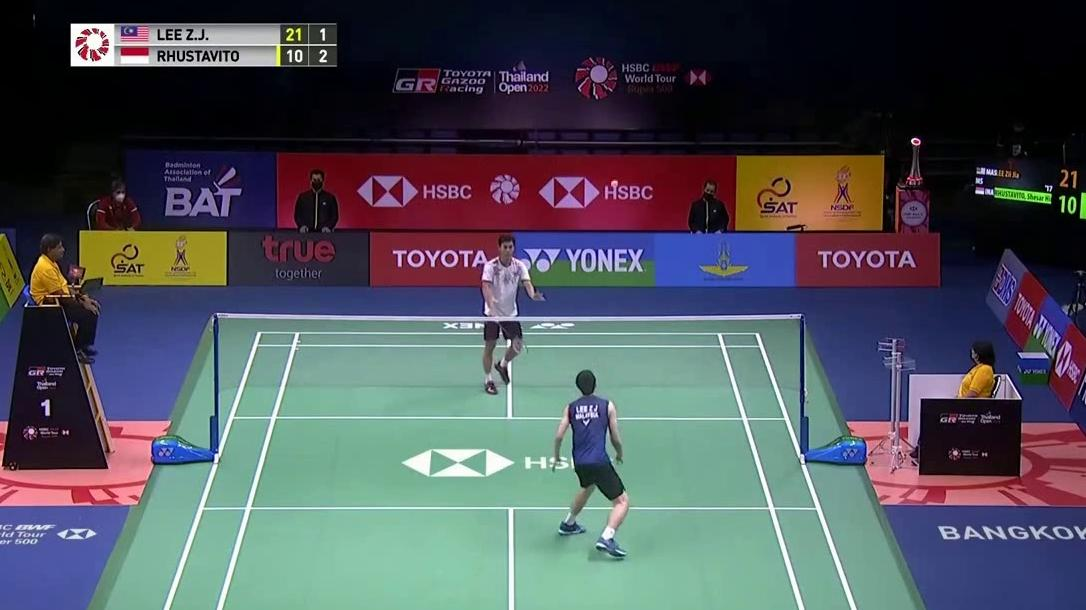racket: (485, 308, 528, 355)
shuttle: (611, 179, 618, 188)
